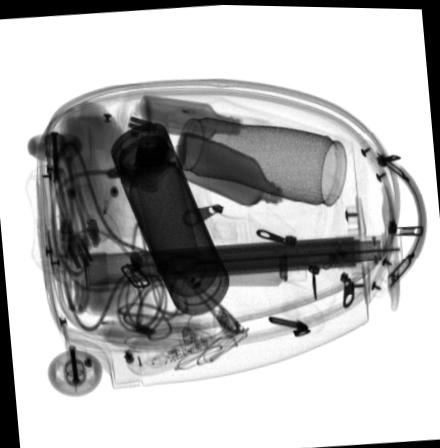Sprayer: (196, 242, 305, 286)
